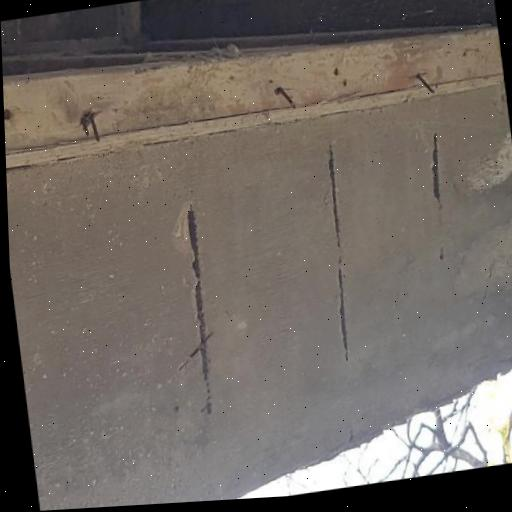exposed_rebar: (187, 203, 213, 414), (328, 147, 349, 361), (328, 145, 341, 248), (432, 133, 441, 203), (80, 111, 100, 142), (274, 86, 296, 109), (416, 73, 435, 94), (4, 108, 11, 121)
